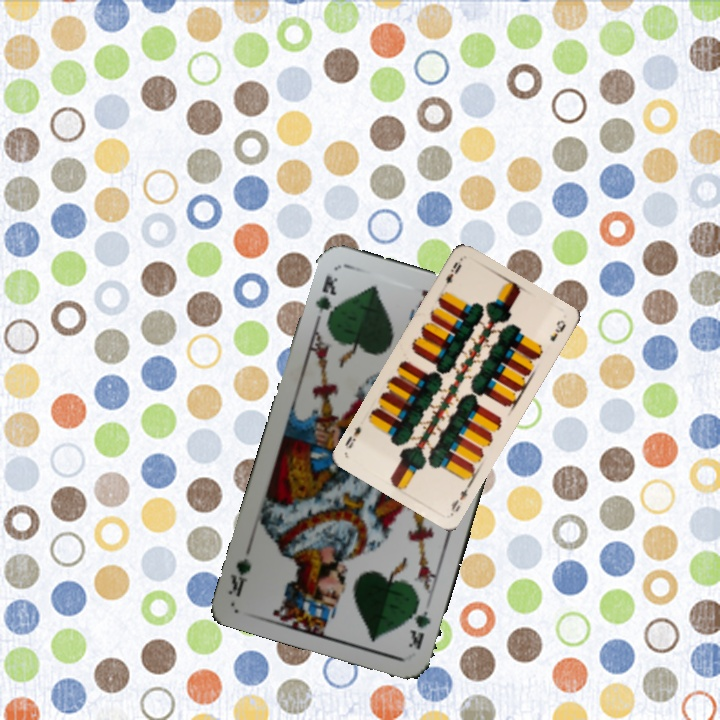E9: (447, 480, 473, 517), (441, 255, 464, 287)
GK: (404, 595, 433, 652), (311, 271, 341, 326)
